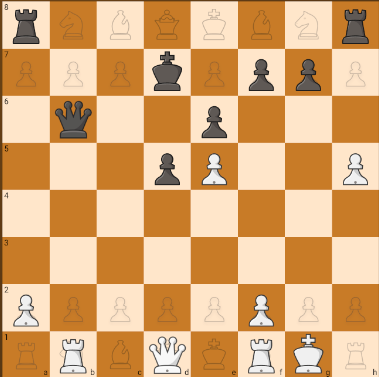bk: (147, 51, 189, 94)
bp: (191, 97, 235, 142), (287, 333, 332, 376), (144, 146, 189, 188), (243, 52, 278, 95), (291, 54, 327, 95)
bq: (52, 99, 94, 140)
br: (5, 5, 47, 46), (338, 5, 375, 47)
wp: (2, 286, 51, 329), (334, 149, 375, 189), (198, 145, 235, 188), (243, 289, 277, 329)
wq: (146, 333, 189, 377)
wr: (50, 335, 96, 376), (241, 334, 282, 376)
